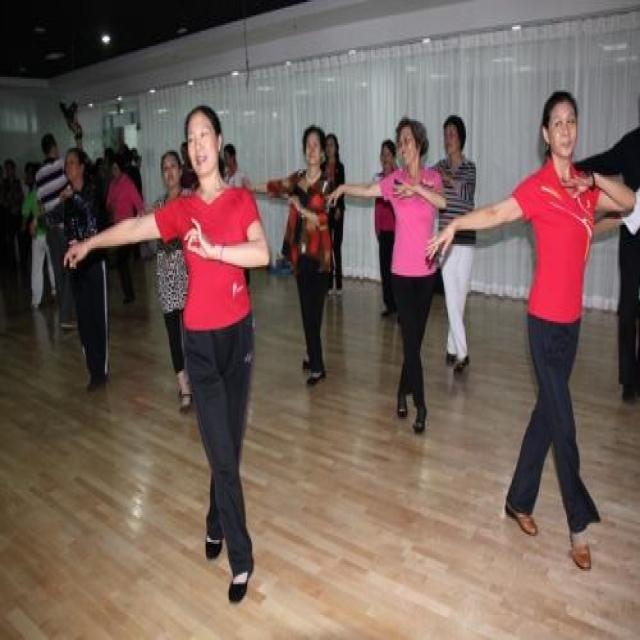non-fight: (62, 105, 270, 604), (428, 88, 633, 568), (327, 116, 448, 430), (243, 126, 327, 382), (27, 147, 108, 392), (430, 116, 476, 370), (373, 138, 397, 319), (321, 130, 344, 296)
